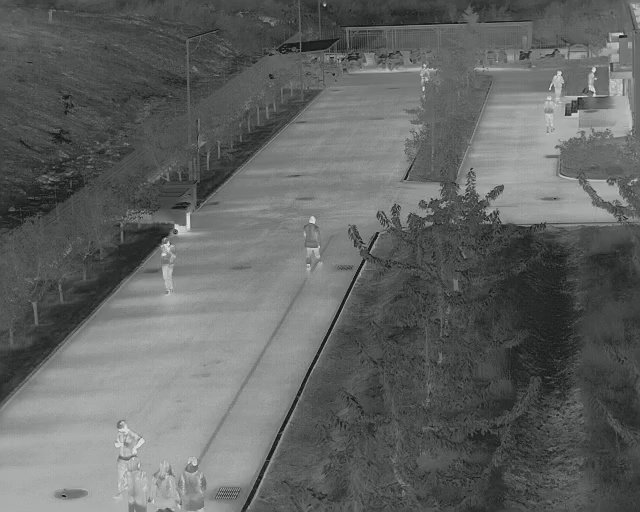person: (114, 420, 144, 498), (154, 461, 177, 512), (182, 457, 204, 510), (301, 216, 322, 268), (125, 459, 146, 510), (158, 237, 176, 294), (553, 70, 564, 104), (545, 97, 555, 133)
